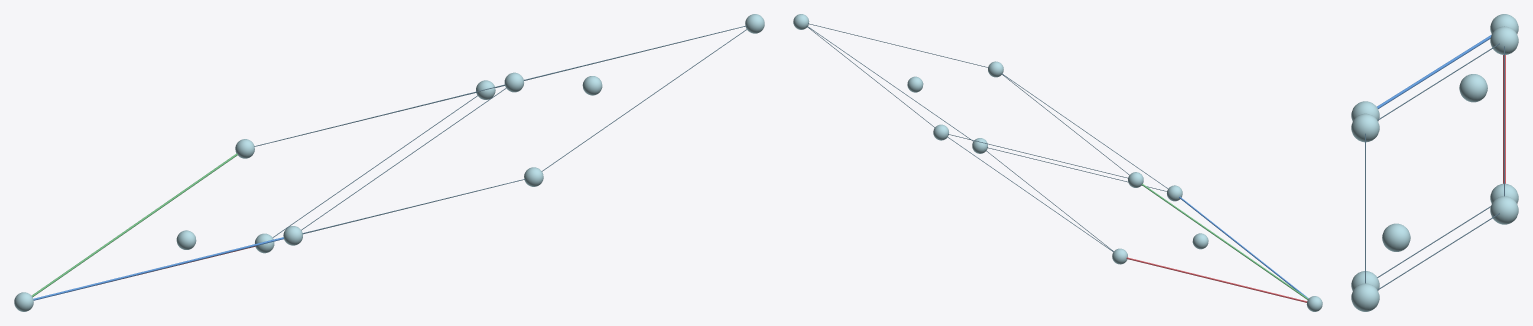
Rendered from nguyen-to-sm.glb.
3 renders of one model, left to right at view 1: azimuth 30°, elevation 25°; view 2: azimuth 150°, elevation 25°; view 3: azimuth 270°, elevation 25°, orthographic. The views are drawn at different scales.
Parts seen in each view (by area): view 1: Ô mạng và các trục a, b, c; view 2: Ô mạng và các trục a, b, c; view 3: Sm1 · Sm · 1 (×8), Ô mạng và các trục a, b, c, Sm2 · Sm · 1 (×2).
Part boxes in pixels (<box>): Ô mạng và các trục a, b, c: <box>31,25,747,300</box>; Ô mạng và các trục a, b, c: <box>806,23,1308,302</box>; Sm1 · Sm · 1 (×8): <box>1351,14,1518,311</box>; Ô mạng và các trục a, b, c: <box>1365,34,1505,290</box>; Sm2 · Sm · 1 (×2): <box>1382,74,1487,251</box>.
Size of the model in its own units: 26.17 by 5.89 by 3.75.
